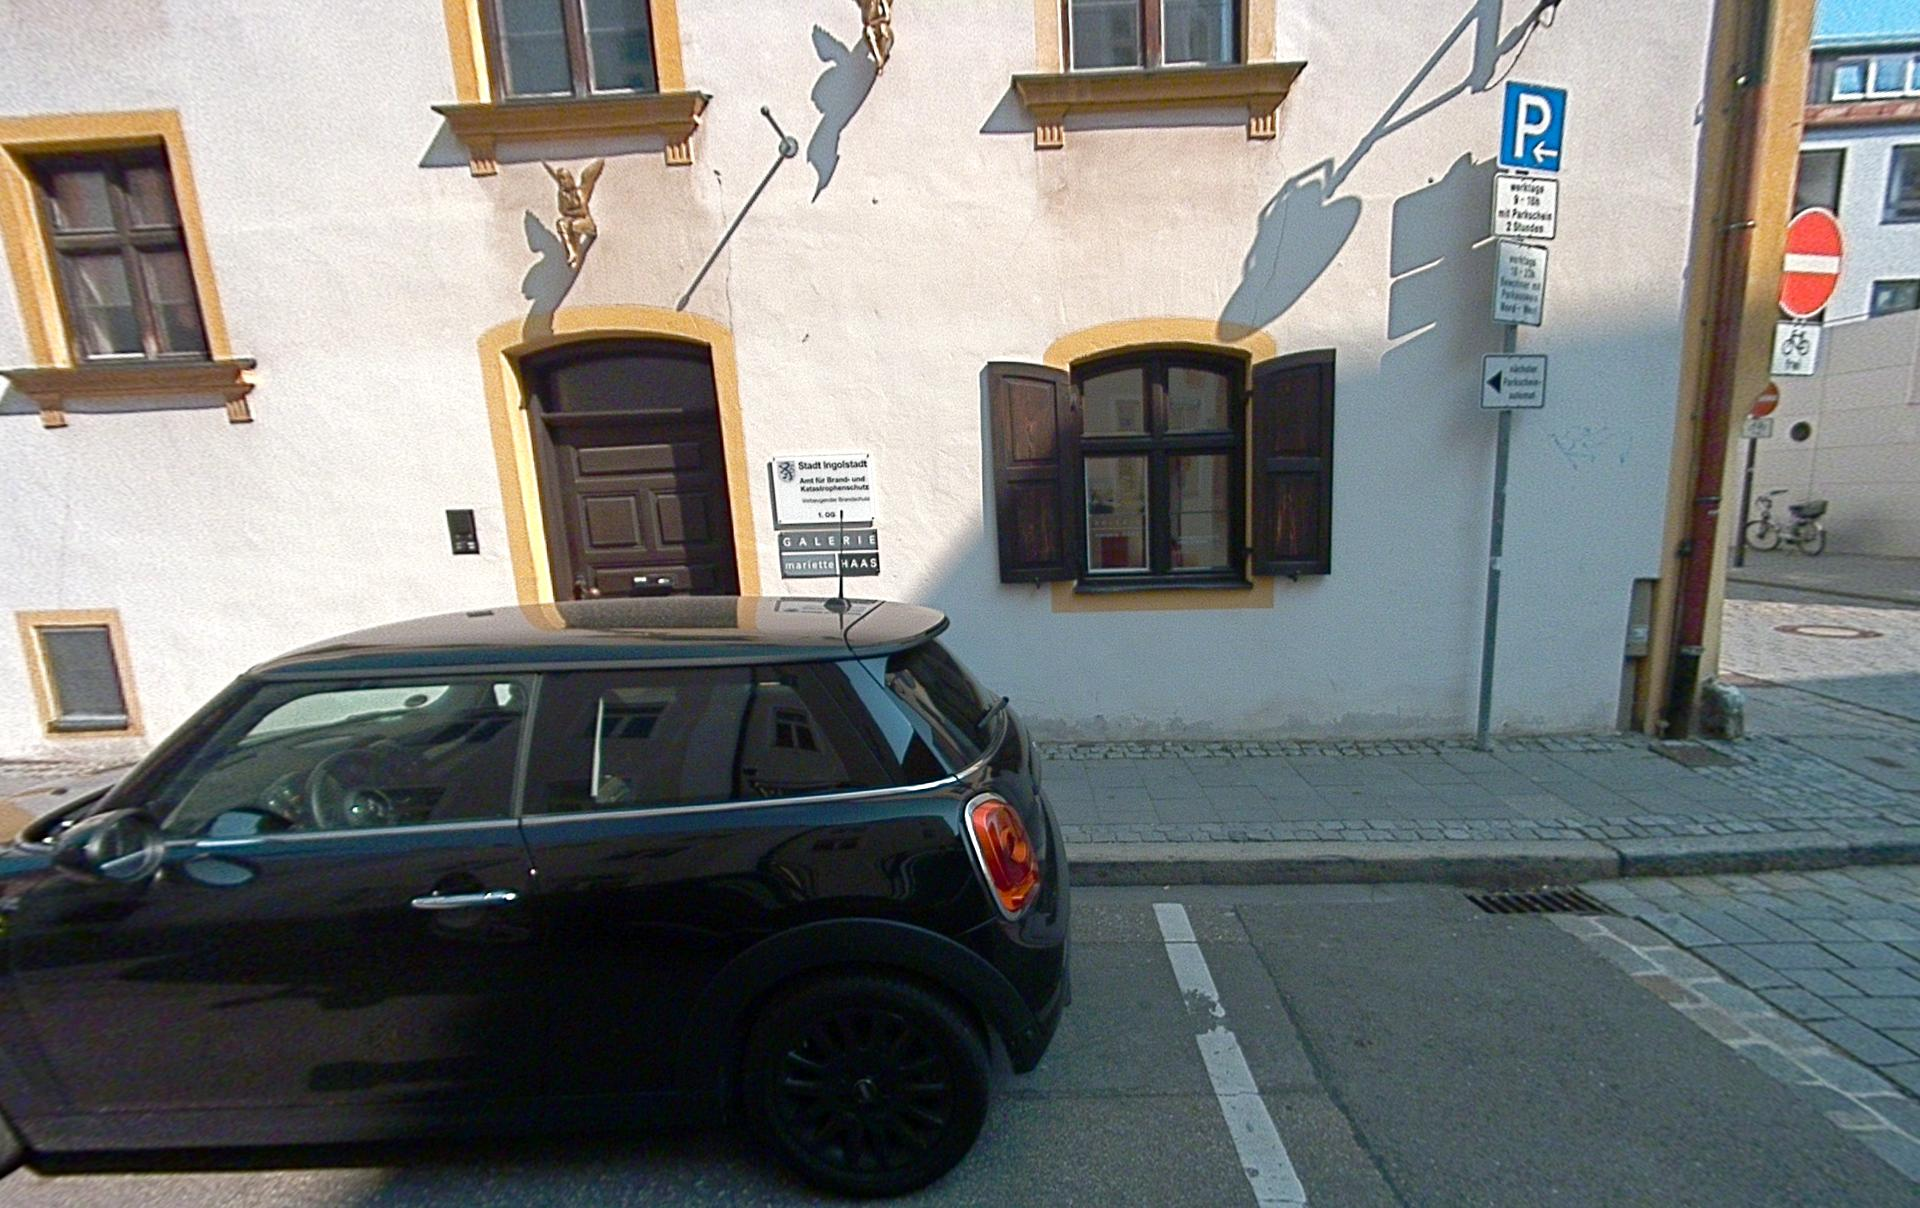car: (0, 594, 1074, 1200)
traffic sign: (1498, 81, 1568, 174), (1493, 241, 1549, 327), (1491, 173, 1558, 239), (1480, 353, 1547, 411), (1770, 321, 1821, 376)
